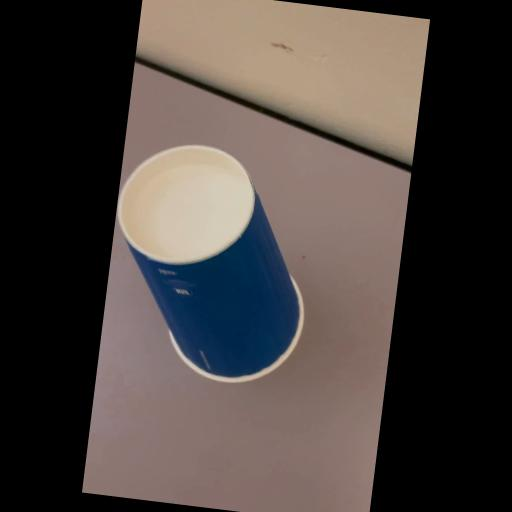lp_paper_cup: (97, 135, 328, 393)
